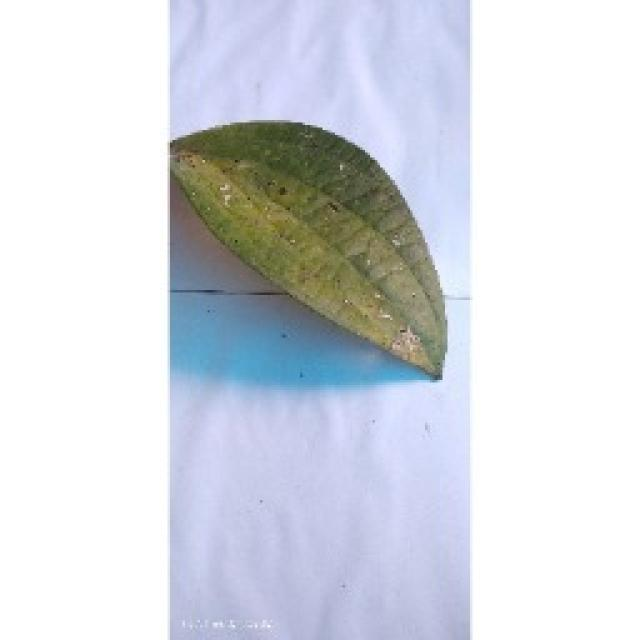slow-decline: (162, 108, 452, 382)
